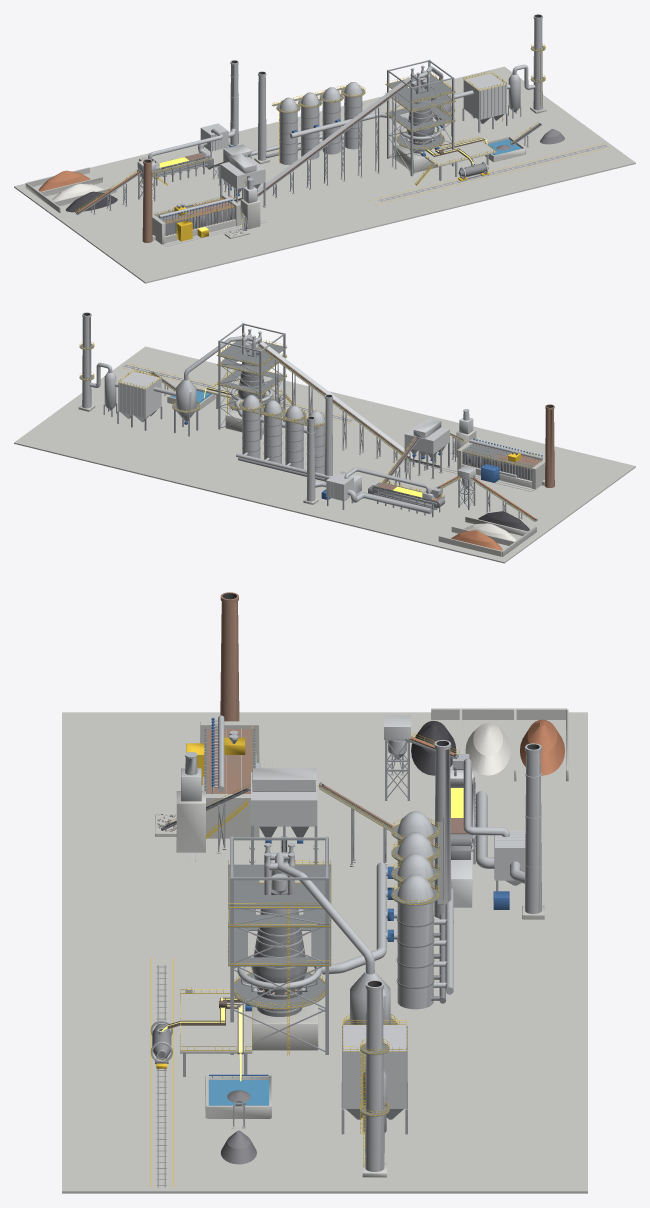
Rendered from ironmaking.glb.
3 renders of one model, top to bottom at view 1: azimuth 30°, elevation 25°; view 2: azimuth 150°, elevation 25°; view 3: azimuth 270°, elevation 25°, orthographic. The views are drawn at different scales.
Visible parts, largest first — view 1: Floor_Slab, I5_Hot_Stoves, I4_Blast_Furnace, I3_Coke_Oven_Battery, I4_Stockhouse_Charging_Conveyor, I7_Gas_Cleaning, I1_Raw_Material_Yard, I2_Sinter_Plant, I6_Casthouse, I6_Slag_Granulation, Rails_Torpedo, I6_Torpedo_Car; view 2: Floor_Slab, I5_Hot_Stoves, I7_Gas_Cleaning, I4_Blast_Furnace, I3_Coke_Oven_Battery, I2_Sinter_Plant, I4_Stockhouse_Charging_Conveyor, I1_Raw_Material_Yard, I6_Slag_Granulation, I6_Casthouse; view 3: Floor_Slab, I4_Blast_Furnace, I5_Hot_Stoves, I3_Coke_Oven_Battery, I7_Gas_Cleaning, I2_Sinter_Plant, I1_Raw_Material_Yard, I4_Stockhouse_Charging_Conveyor, I6_Casthouse, I6_Slag_Granulation, Rails_Torpedo, I6_Torpedo_Car.
Part boxes in pixels (x1,y1,x2,y2): Floor_Slab: (14,66,635,283); I5_Hot_Stoves: (223,71,408,164); I4_Blast_Furnace: (385,59,455,176); I3_Coke_Oven_Battery: (142,159,266,246); I4_Stockhouse_Charging_Conveyor: (220,77,412,207); I7_Gas_Cleaning: (431,14,546,136); I1_Raw_Material_Yard: (25,158,156,214); I2_Sinter_Plant: (137,60,241,192); I6_Casthouse: (415,136,496,185); I6_Slag_Granulation: (484,121,564,162); Rails_Torpedo: (378,144,607,201); I6_Torpedo_Car: (458,162,489,181); Floor_Slab: (14,346,635,563); I5_Hot_Stoves: (234,394,361,494); I7_Gas_Cleaning: (78,312,199,436); I4_Blast_Furnace: (184,323,286,439); I3_Coke_Oven_Battery: (430,404,554,491); I2_Sinter_Plant: (303,416,445,517); I4_Stockhouse_Charging_Conveyor: (258,341,450,479); I1_Raw_Material_Yard: (436,465,537,556); I6_Slag_Granulation: (150,371,215,410); I6_Casthouse: (203,377,294,410); Floor_Slab: (62,712,587,1193); I4_Blast_Furnace: (228,836,374,1055); I5_Hot_Stoves: (322,740,472,1009); I3_Coke_Oven_Battery: (155,592,272,861); I7_Gas_Cleaning: (341,971,407,1177); I2_Sinter_Plant: (318,743,544,919); I1_Raw_Material_Yard: (384,708,568,800); I4_Stockhouse_Charging_Conveyor: (249,768,318,882); I6_Casthouse: (162,987,252,1081); I6_Slag_Granulation: (205,1074,271,1164); Rails_Torpedo: (156,965,166,1187); I6_Torpedo_Car: (150,1020,172,1069).
Bounding box in the file's own units: 35 × 6.5 × 16.24.
